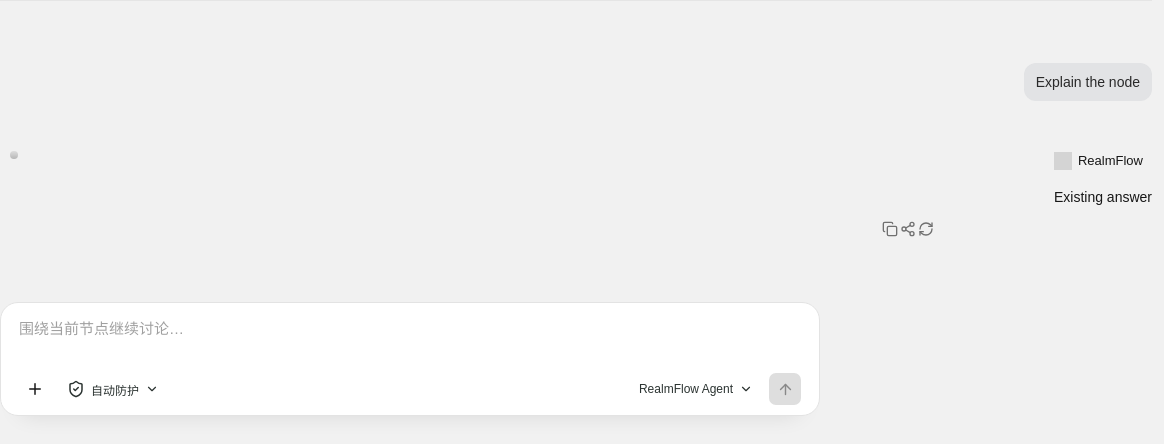
Test case: RequirementNodeConversationPanel › renders committed turn snapshots before the append command completes
Type "Continue now" into the text box named "节点对话内容" at (410, 343), box [19, 317, 801, 369]
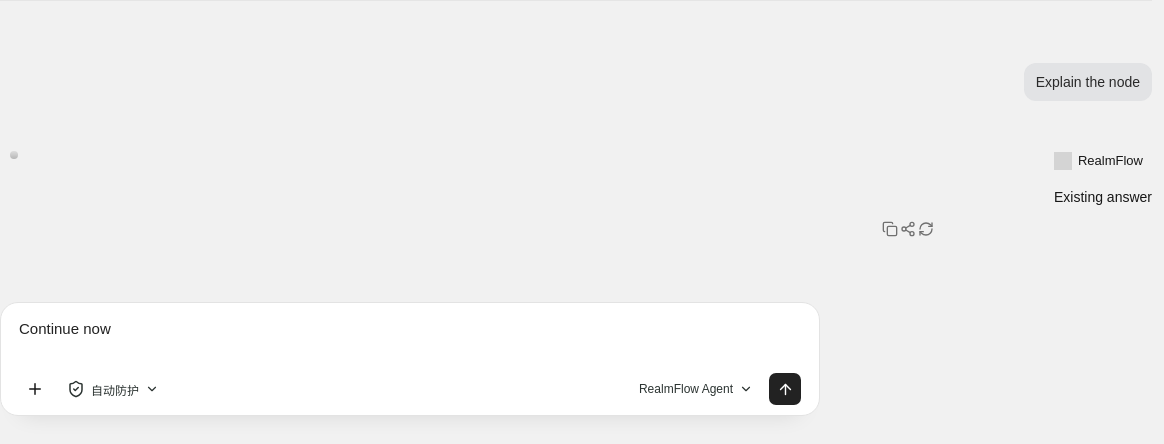
Click the button named "发送节点消息" at (785, 389), box [769, 373, 801, 405]
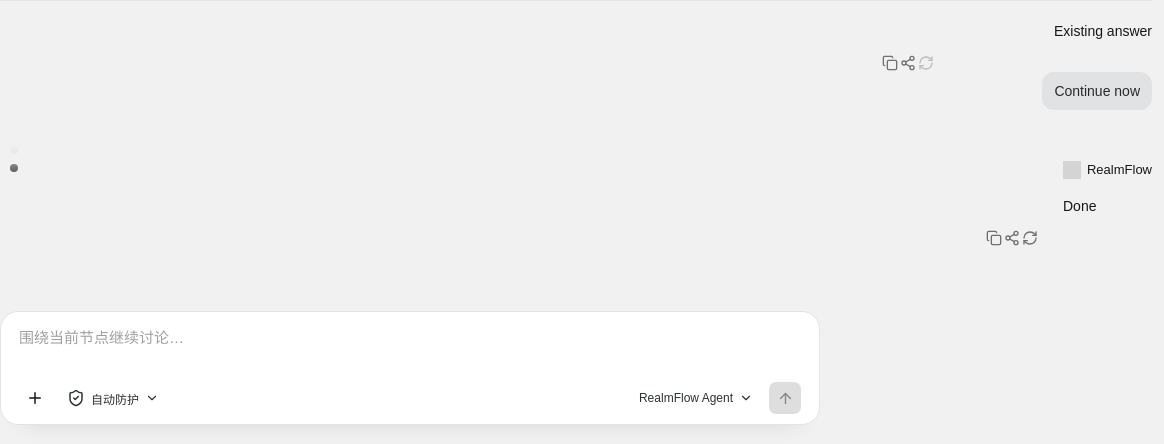
Expected: the element with class "user" reads "Continue now", [1054, 83, 1140, 99]
Expected: the element with class "assistant" showing "RealmFlow Done" is shown, [986, 161, 1152, 246]
Expected: the text "Done" is shown, [1063, 198, 1096, 214]
